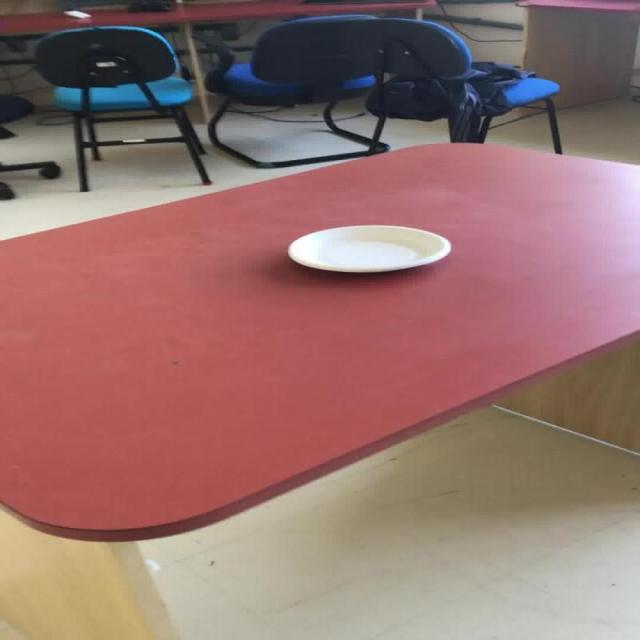Plate: (286, 224, 451, 274)
